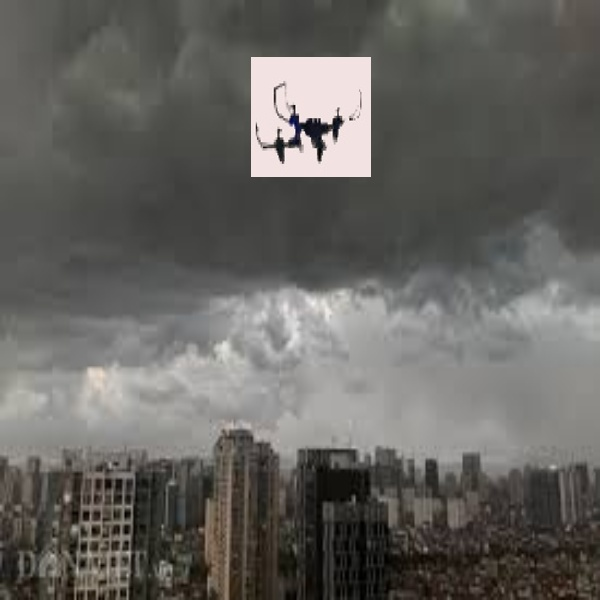drone: (249, 71, 367, 170)
